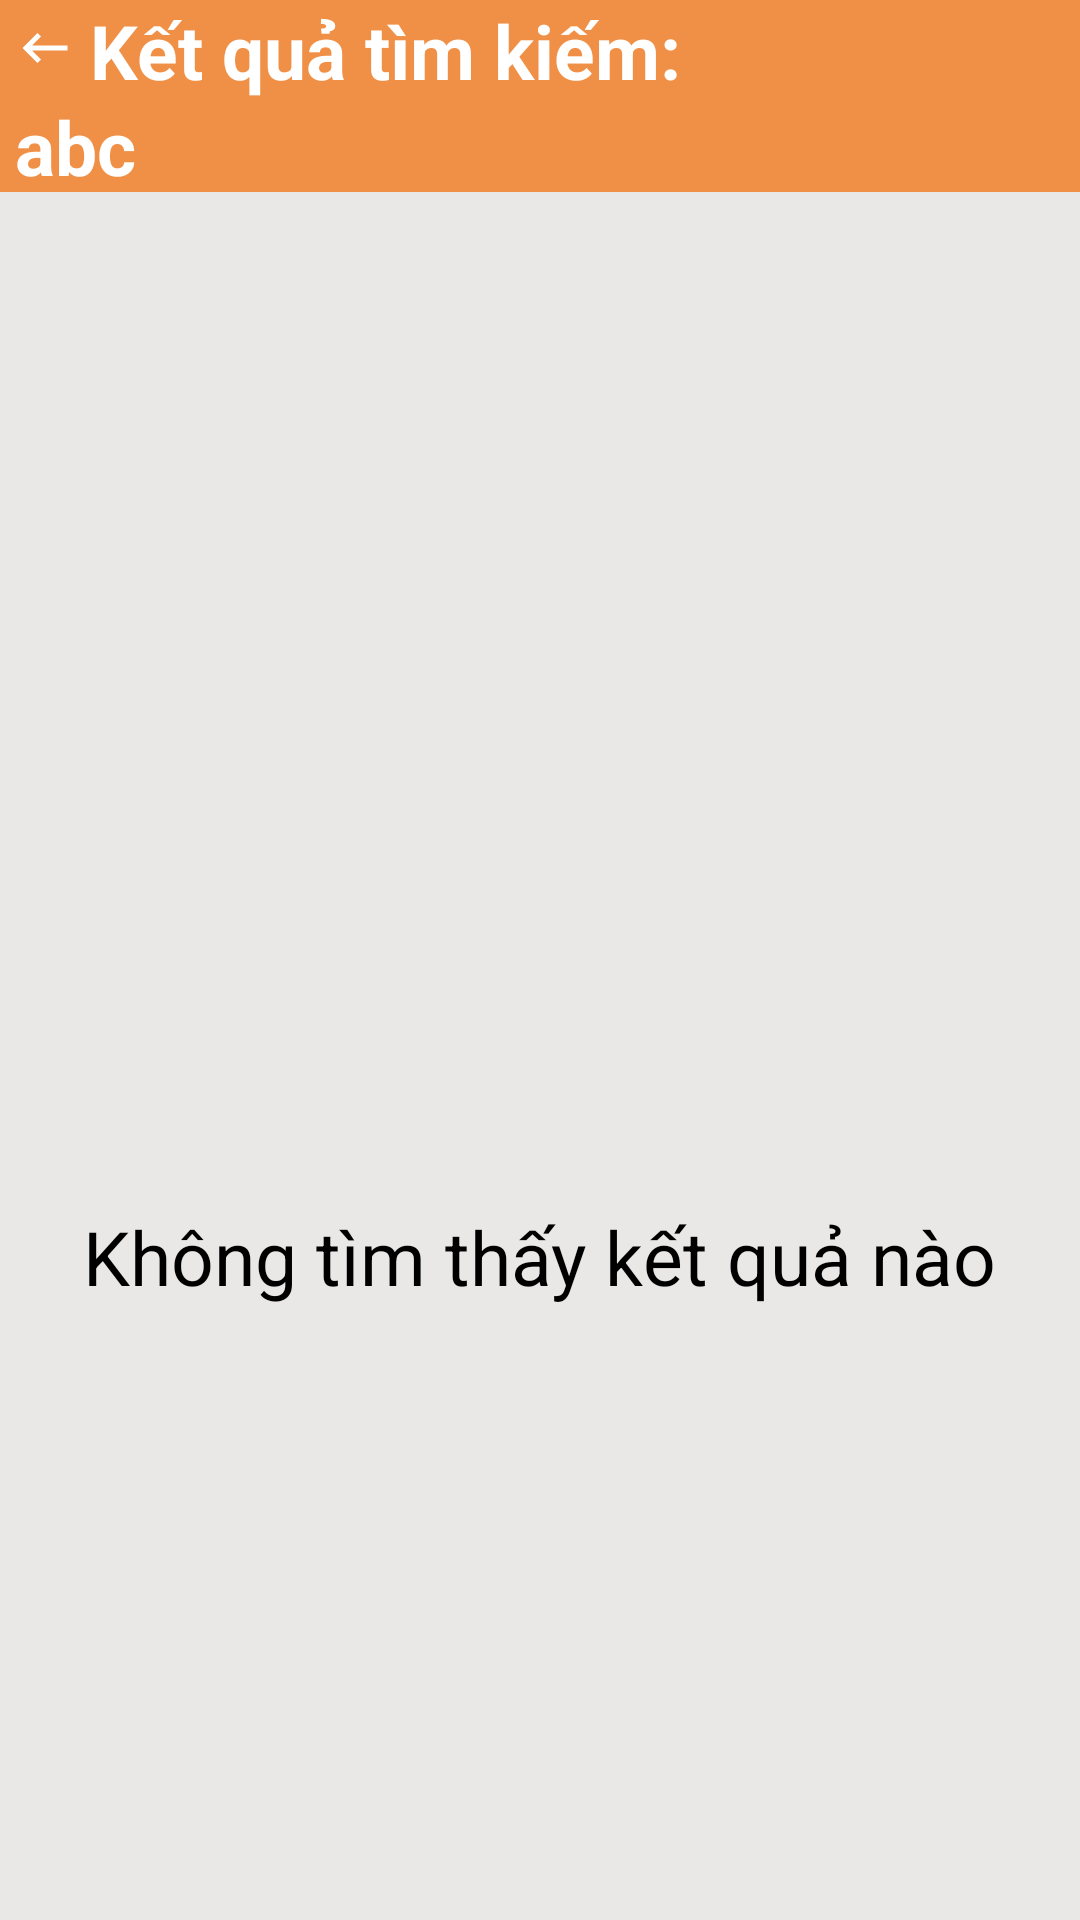

Point at icon controls on the screen. Image size 1080w x 1920h, points as (x,y).
keyboard backspace: (45,48)
